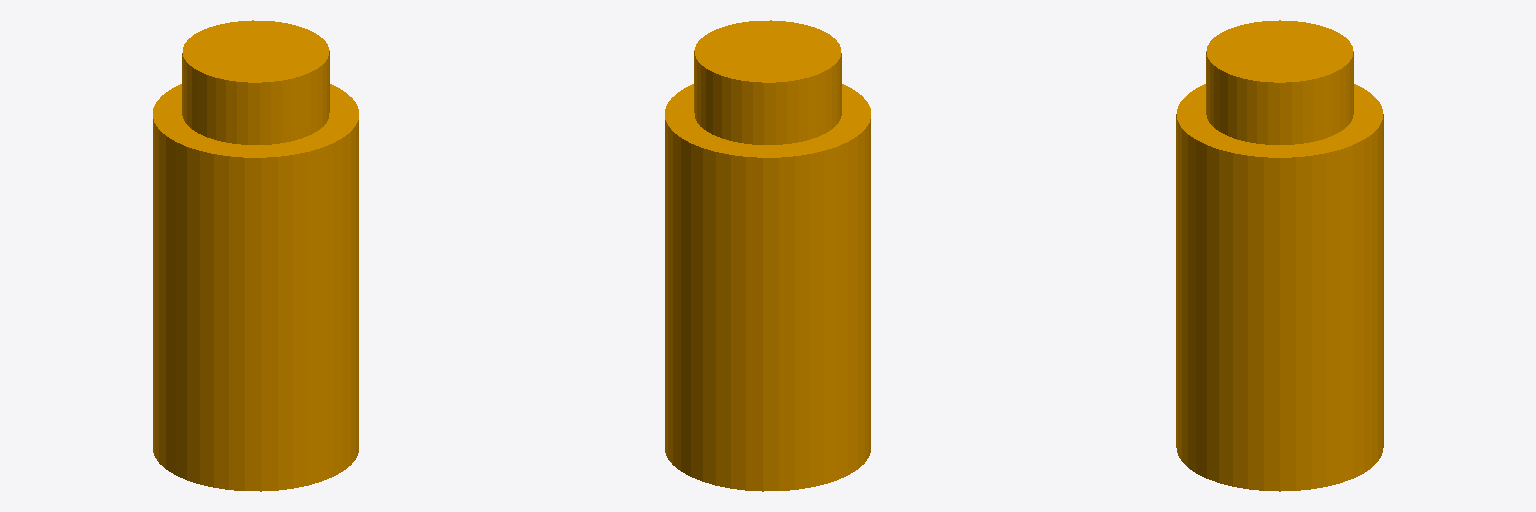
URDF robot description (fixed_water_bottle):
<?xml version='1.0' encoding='utf-8'?>
<robot name="fixed_water_bottle">
  <link name="body">
    <inertial>
      <origin xyz="3.9353753103006303e-19 -1.1448364539056378e-18 0.08822733423545333" />
      <mass value="0.3" />
      <inertia ixx="0.0009454712901834088" iyy="0.0009454712901834088" izz="0.00028955329117998785" ixy="-1.453405654372393e-22" ixz="7.55413905055124e-21" iyz="-3.030176053909915e-20" />
    </inertial>
    <collision>
      <geometry>
        <mesh filename="part_00.obj" />
      </geometry>
    </collision>
    <collision>
      <geometry>
        <mesh filename="part_01.obj" />
      </geometry>
    </collision>
    <visual>
      <geometry>
        <mesh filename="visual.obj" />
      </geometry>
    </visual>
  </link>
</robot>

--- What the picture shows (computed from the rendered views, not written in the file) ---
Views: 3 orthographic renders of the robot side by side, from view 1: azimuth 30°, elevation 25°; view 2: azimuth 150°, elevation 25°; view 3: azimuth 270°, elevation 25°.
Robot: fixed_water_bottle — 1 links, 0 joints (none); root link body; default pose: every joint at zero.
Visible links, largest first — view 1: body; view 2: body; view 3: body.
Link boxes in pixels (<box>): body: <box>153,20,358,491</box>; body: <box>665,20,870,491</box>; body: <box>1176,20,1383,491</box>.
Bounding box of the posed robot: 0.09 × 0.09 × 0.19 m (x, y, z).
1 mesh visuals loaded from 1 distinct referenced files (1 OBJ).
